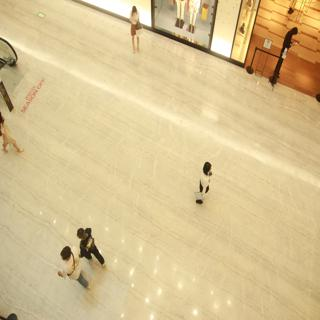person: (54, 241, 91, 294), (123, 1, 151, 58), (76, 223, 110, 266), (197, 157, 221, 210)
